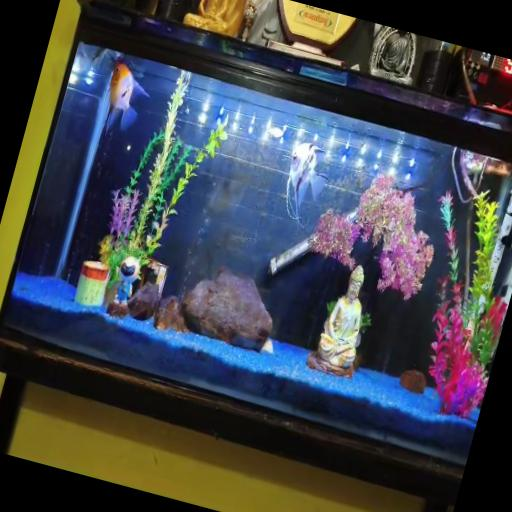Fish: (286, 142, 328, 227), (106, 61, 148, 132), (267, 127, 283, 139)
